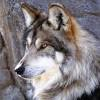Lobo: (11, 2, 85, 99)
